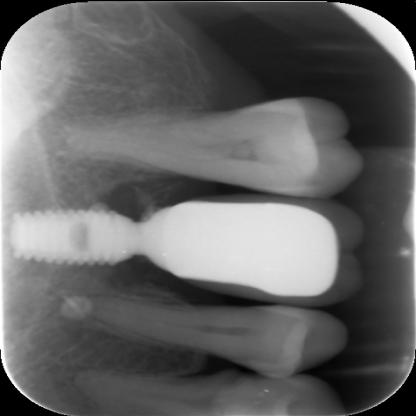Bicon: (3, 198, 170, 274)
